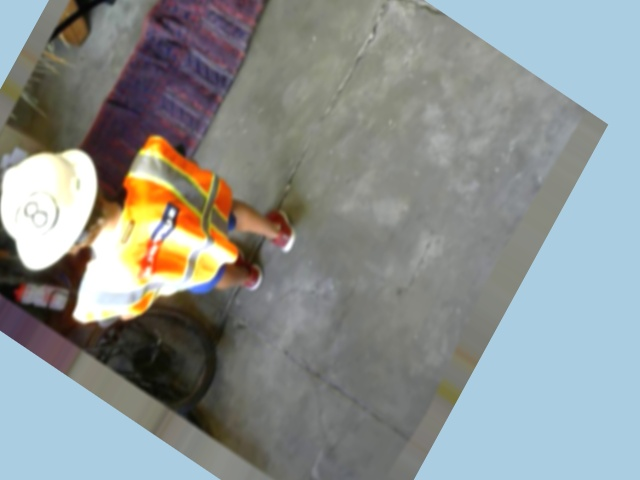eight: (6, 180, 65, 248)
